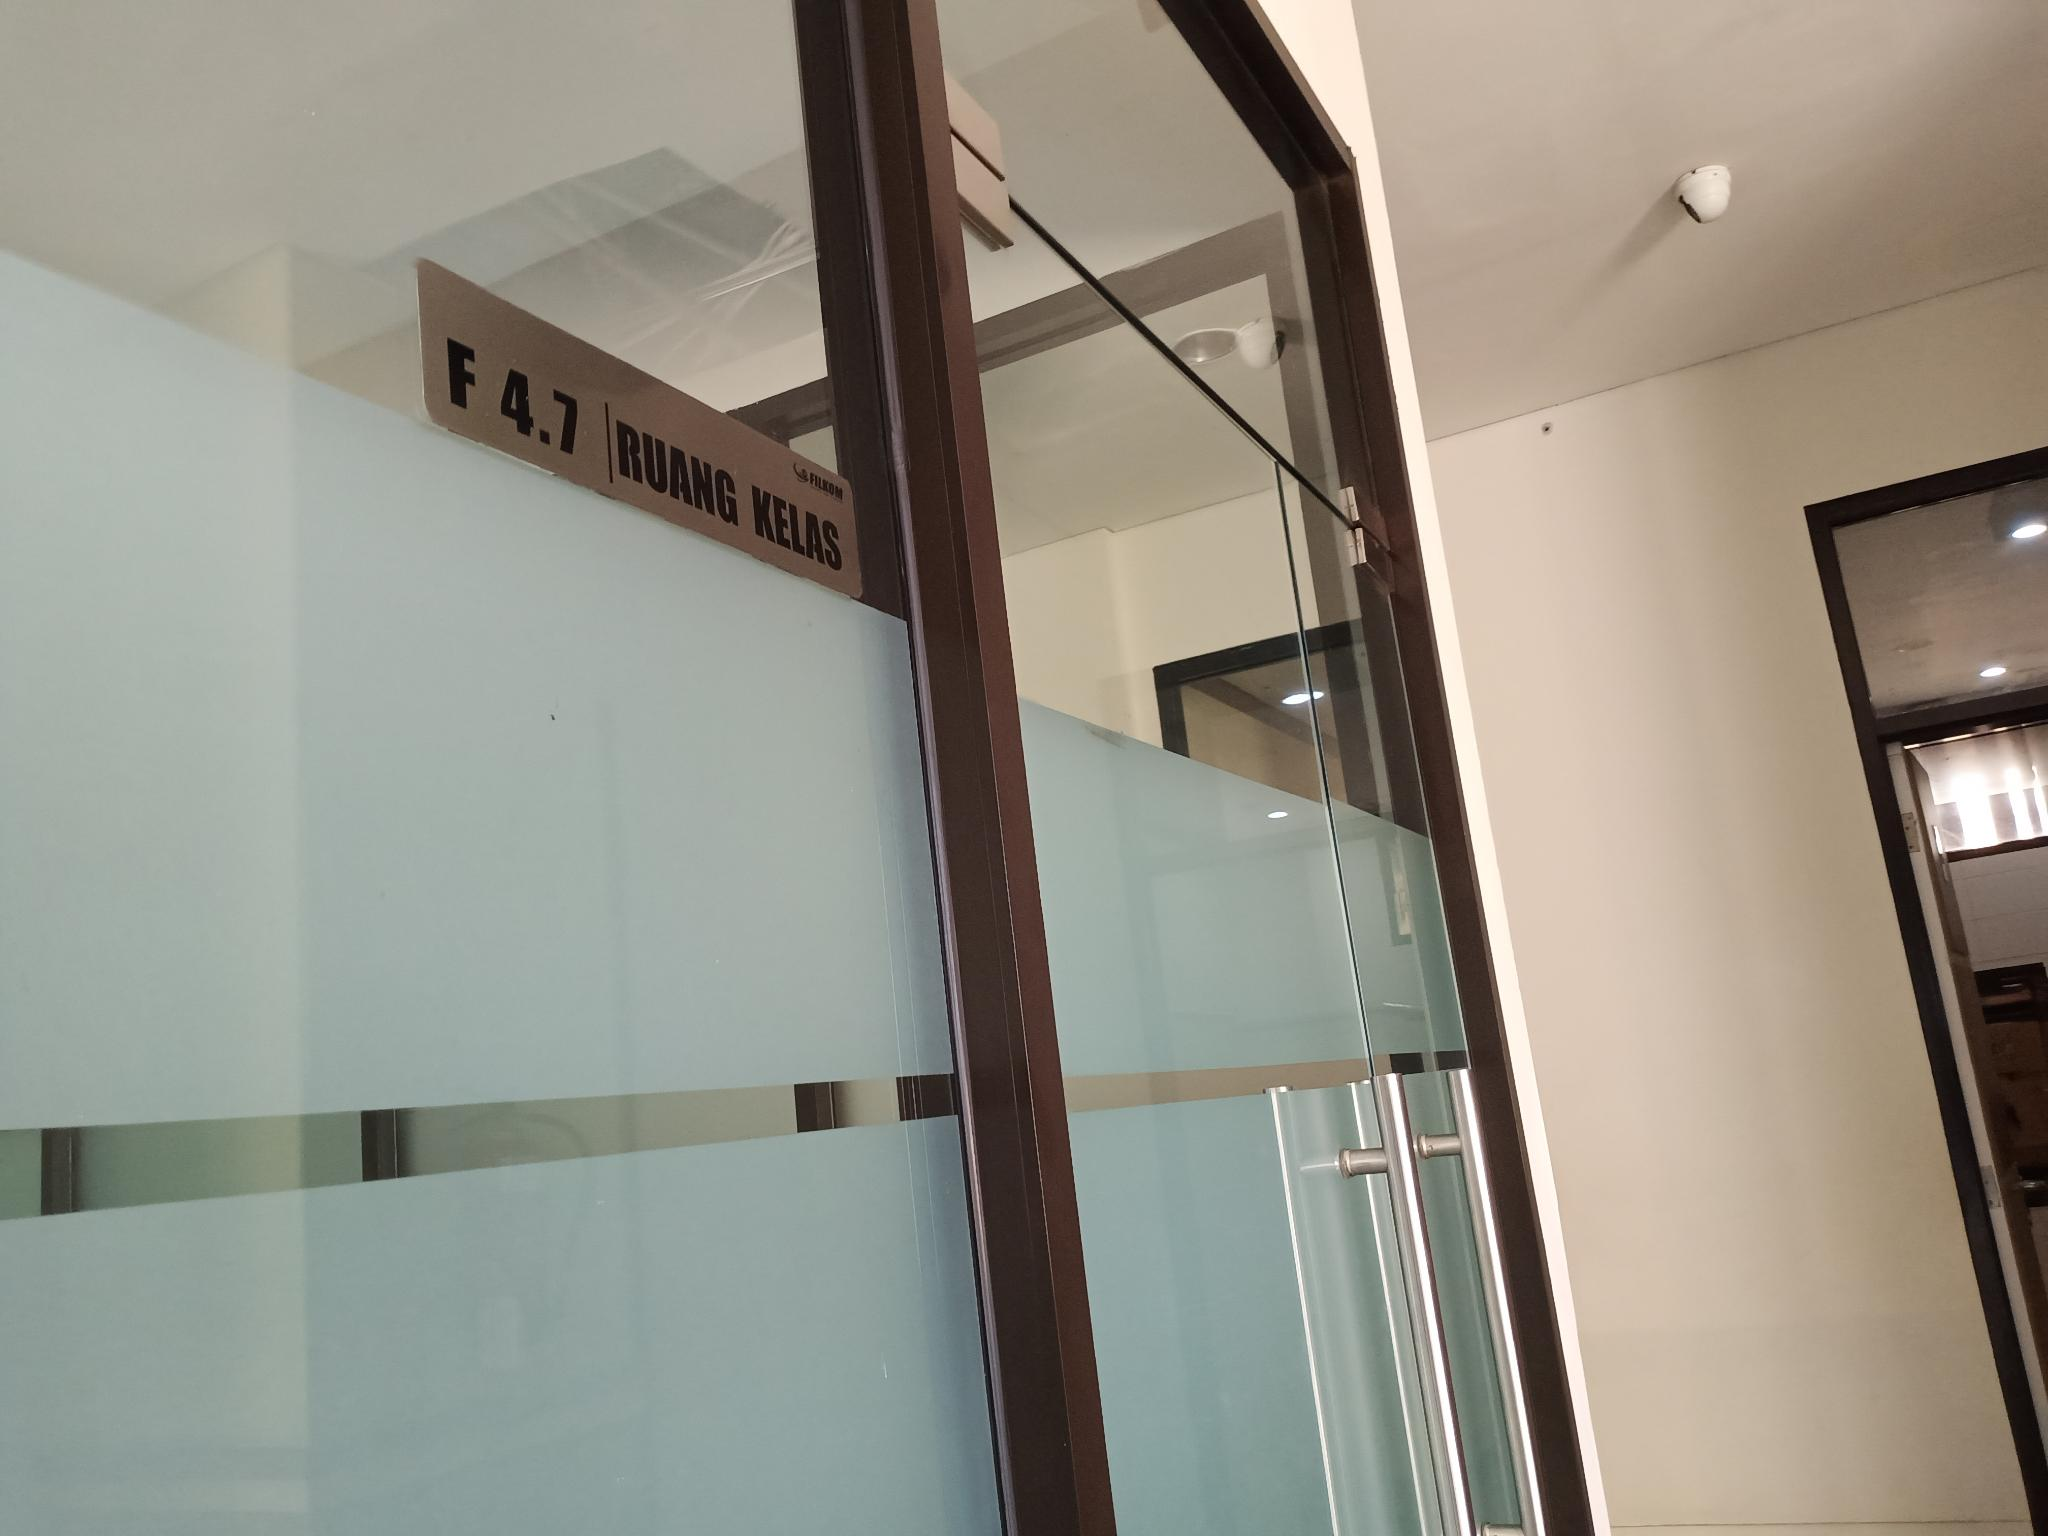plate: (419, 255, 864, 602)
